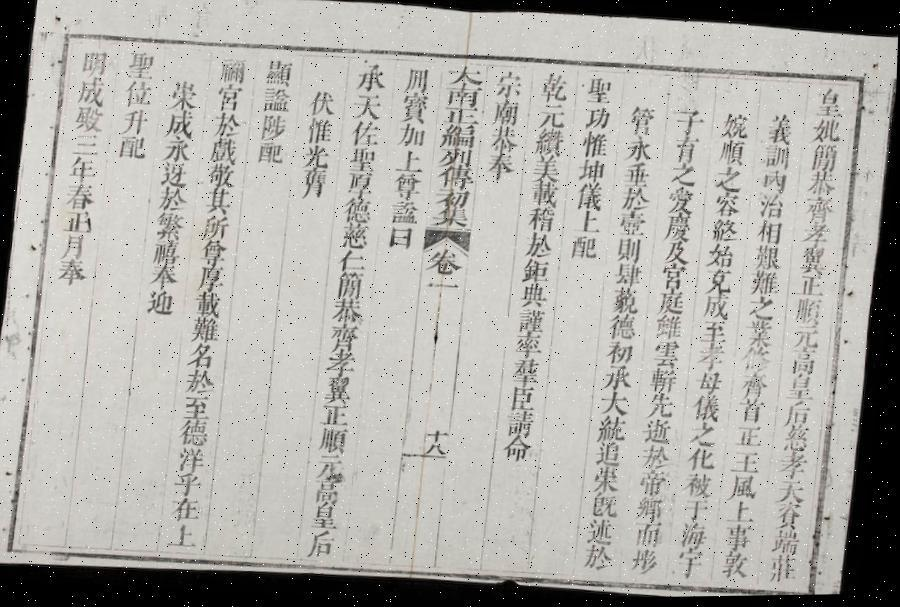c: (426, 247, 467, 278), (354, 60, 390, 94), (166, 77, 202, 111), (670, 106, 708, 138), (444, 62, 488, 89), (123, 48, 160, 80), (764, 113, 798, 147), (538, 71, 573, 104), (74, 74, 110, 106), (61, 180, 99, 210), (328, 324, 366, 354), (767, 555, 805, 585), (436, 165, 478, 192), (582, 75, 617, 107), (676, 548, 711, 580), (812, 88, 847, 120), (261, 56, 297, 87), (722, 551, 758, 582), (792, 297, 828, 328), (120, 78, 157, 108), (178, 418, 216, 447), (439, 124, 481, 150), (398, 92, 432, 124), (798, 246, 832, 278), (493, 70, 528, 101), (350, 92, 386, 122), (486, 125, 522, 155), (532, 128, 568, 158), (744, 320, 780, 350), (318, 426, 354, 456), (584, 544, 620, 574), (154, 211, 190, 241), (510, 357, 546, 387), (55, 257, 92, 286), (443, 84, 484, 110), (170, 495, 208, 523), (299, 168, 332, 200), (752, 244, 787, 274), (692, 394, 727, 424), (651, 340, 686, 370), (216, 55, 251, 85), (308, 529, 343, 559), (506, 410, 541, 440), (118, 106, 153, 136), (740, 372, 775, 402), (638, 469, 674, 498), (662, 214, 698, 243), (778, 452, 814, 481), (781, 425, 817, 454), (774, 503, 810, 532), (502, 435, 538, 464), (696, 343, 732, 372), (809, 118, 846, 146), (70, 104, 107, 132), (626, 105, 658, 137), (575, 182, 608, 213), (670, 136, 704, 166), (610, 286, 644, 316), (484, 152, 518, 182), (719, 112, 753, 142), (593, 465, 627, 495), (324, 376, 358, 406), (163, 110, 198, 139), (616, 210, 651, 239), (598, 415, 633, 444), (317, 454, 352, 483), (631, 548, 666, 577), (646, 393, 682, 421), (684, 472, 720, 500), (748, 270, 784, 298), (65, 152, 101, 180), (802, 198, 838, 226), (176, 445, 212, 473), (184, 367, 220, 395), (634, 522, 670, 550), (169, 522, 205, 550), (724, 524, 760, 552), (331, 298, 368, 325), (771, 530, 808, 557), (258, 112, 291, 142), (579, 131, 612, 161), (809, 144, 842, 174), (61, 208, 99, 234), (608, 313, 642, 342), (392, 172, 426, 201), (208, 136, 242, 165), (522, 232, 556, 261), (788, 350, 822, 379), (784, 401, 818, 430), (690, 421, 724, 450), (78, 47, 112, 76), (680, 522, 715, 550), (603, 364, 638, 392), (528, 182, 563, 210), (349, 120, 384, 148), (729, 474, 764, 502), (190, 316, 225, 344), (342, 198, 377, 226), (195, 264, 230, 292), (600, 390, 636, 417), (648, 368, 684, 395), (642, 419, 678, 446), (786, 375, 822, 402), (431, 206, 473, 229), (776, 479, 813, 505), (307, 88, 340, 117), (312, 502, 345, 531), (401, 65, 434, 94), (509, 385, 542, 414), (340, 224, 374, 252), (518, 283, 552, 311), (346, 146, 380, 174), (260, 86, 294, 114), (211, 111, 245, 139), (716, 140, 750, 168), (568, 235, 602, 263), (116, 134, 150, 162), (198, 238, 232, 266), (704, 269, 738, 297), (192, 290, 226, 318), (146, 288, 180, 316), (588, 518, 622, 546), (636, 497, 671, 524), (687, 447, 722, 474), (641, 445, 676, 472), (732, 449, 767, 476), (158, 161, 193, 188), (791, 326, 826, 353), (151, 239, 186, 266), (156, 185, 191, 212), (182, 393, 217, 420), (148, 264, 184, 290), (326, 350, 362, 376), (742, 348, 778, 374), (214, 83, 246, 112), (624, 136, 656, 165), (738, 398, 770, 427), (620, 186, 653, 214), (756, 194, 789, 222), (659, 264, 692, 292), (666, 188, 699, 216), (526, 206, 559, 234), (490, 100, 523, 128), (702, 295, 735, 323), (203, 186, 236, 214), (389, 200, 423, 227), (530, 157, 564, 184), (706, 244, 740, 271), (761, 145, 795, 172), (654, 315, 688, 342), (747, 295, 781, 322), (606, 341, 640, 368), (700, 320, 734, 347), (694, 370, 728, 397), (805, 172, 840, 198), (513, 333, 548, 359), (187, 342, 222, 368), (437, 148, 478, 170), (336, 272, 368, 300), (710, 218, 742, 246), (616, 238, 648, 266), (344, 172, 376, 200), (394, 148, 427, 175), (712, 193, 745, 220), (314, 479, 347, 506), (200, 214, 233, 241), (536, 104, 570, 130), (396, 124, 430, 150), (754, 220, 788, 246), (667, 164, 701, 190), (621, 162, 655, 188), (516, 309, 550, 335), (60, 232, 94, 258), (175, 471, 209, 497), (591, 494, 625, 520), (161, 137, 195, 163), (305, 117, 336, 145), (582, 106, 614, 133), (522, 259, 554, 286), (714, 167, 746, 194), (658, 290, 690, 317), (255, 140, 287, 167), (596, 441, 628, 468), (613, 264, 646, 290), (576, 159, 610, 184), (338, 249, 372, 274), (302, 144, 334, 170), (386, 226, 418, 252), (206, 162, 238, 188), (70, 130, 103, 155), (572, 211, 605, 236), (728, 501, 761, 526), (683, 499, 716, 524), (736, 426, 770, 450), (434, 190, 474, 210), (760, 171, 792, 196), (441, 108, 483, 127), (322, 404, 355, 428), (796, 276, 829, 300), (801, 224, 835, 247), (662, 242, 694, 266), (425, 278, 463, 298), (428, 427, 454, 445), (426, 442, 451, 459)
